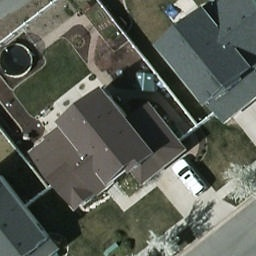car: (172, 159, 209, 199)
